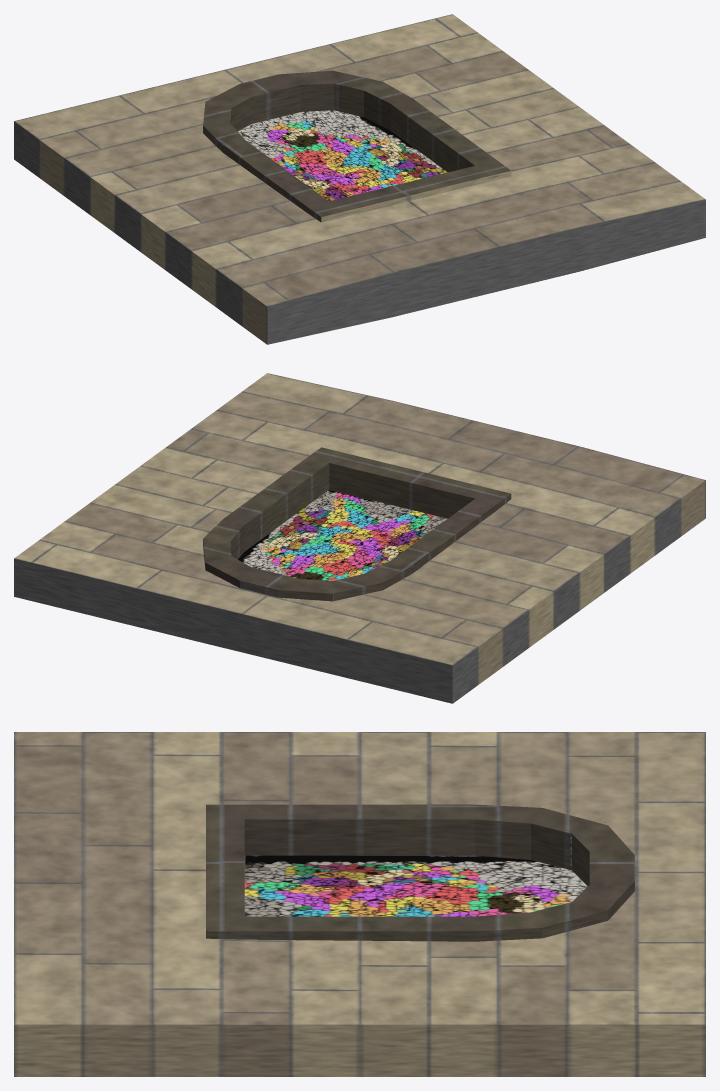
Rendered from BrickWindow.fbx.
The picture shows the model from 3 angles, top to bottom: view 1: azimuth 30°, elevation 25°; view 2: azimuth 150°, elevation 25°; view 3: azimuth 270°, elevation 25°; orthographic projection. The views are drawn at different scales.
Parts seen in each view (by area): view 1: BrickDoorway.001_Baked; view 2: BrickDoorway.001_Baked; view 3: BrickDoorway.001_Baked.
Part boxes in pixels (bbox=[...]): BrickDoorway.001_Baked: bbox=[14, 14, 705, 344]; BrickDoorway.001_Baked: bbox=[14, 373, 705, 703]; BrickDoorway.001_Baked: bbox=[14, 732, 705, 1076].
Bounding box in the file's own units: 300 × 35 × 300.
1 material, 1 textured.
